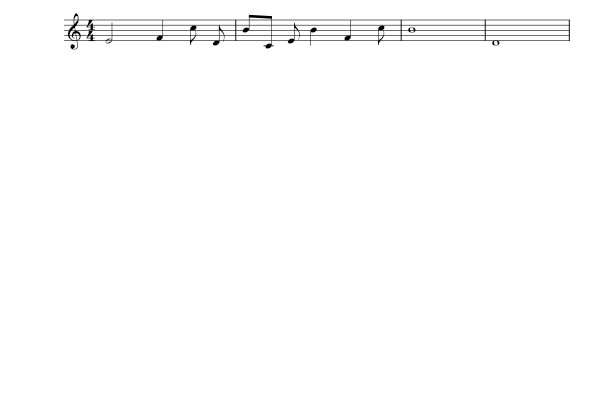Treble Clef: (63, 8, 85, 54)
